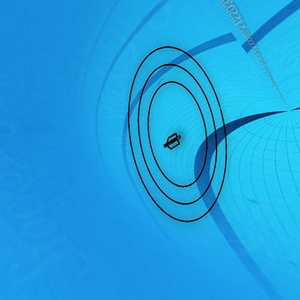circle: (124, 40, 230, 227)
submarine: (165, 132, 186, 155)
